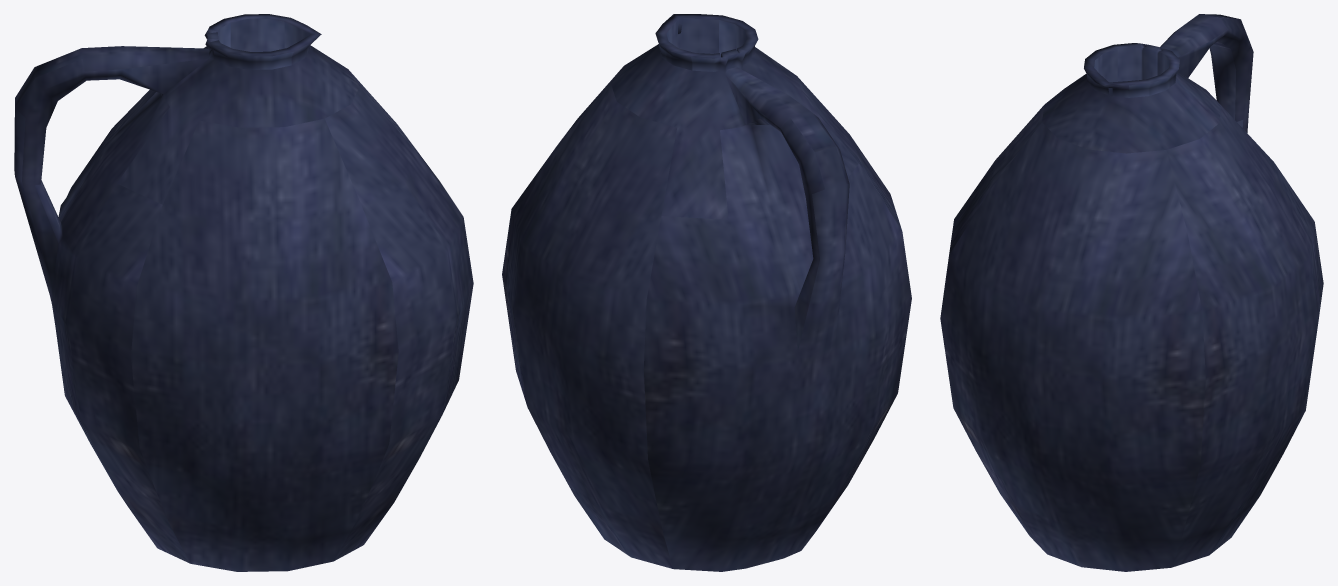
Rendered from jarra_azul.glb.
The picture shows the model from 3 angles, left to right: view 1: azimuth 30°, elevation 25°; view 2: azimuth 150°, elevation 25°; view 3: azimuth 270°, elevation 25°; orthographic projection. The views are drawn at different scales.
Visible parts, largest first — view 1: jarra_azul_ref; view 2: jarra_azul_ref; view 3: jarra_azul_ref.
Boxes of the visible parts, bbox=[...] form: jarra_azul_ref: bbox=[14, 14, 473, 571]; jarra_azul_ref: bbox=[502, 14, 911, 571]; jarra_azul_ref: bbox=[940, 14, 1323, 571].
Bounding box in the file's own units: 0.1996 × 0.2495 × 0.1873.
1 material, 1 textured.
